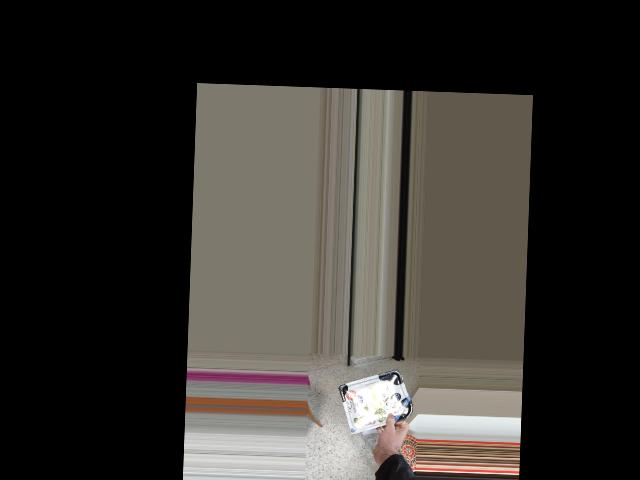cheese: (345, 375, 410, 423)
